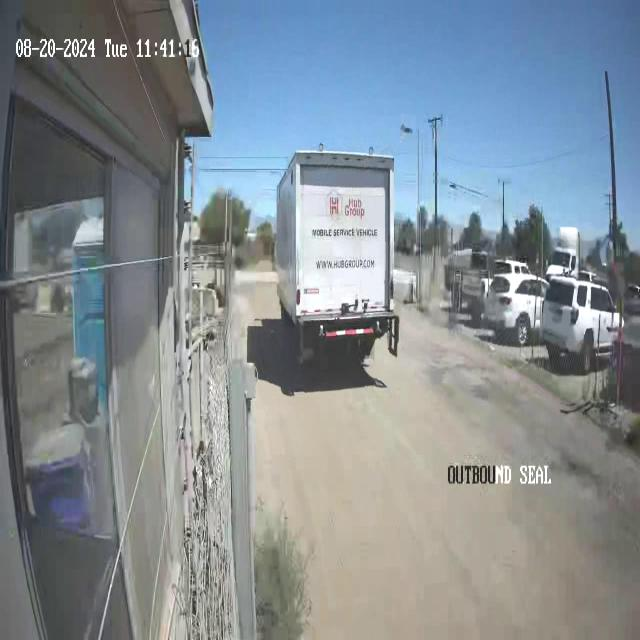TRUCK_CONTAINER: (271, 146, 399, 373)
